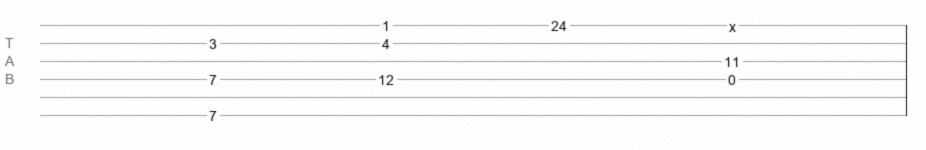0: (728, 72, 736, 82)
1: (382, 18, 390, 28)
11: (724, 54, 740, 64)
12: (378, 72, 394, 82)
24: (551, 18, 567, 28)
3: (209, 36, 217, 46)
4: (382, 36, 390, 46)
7: (209, 72, 217, 82), (209, 108, 217, 118)
x: (729, 19, 736, 27)
